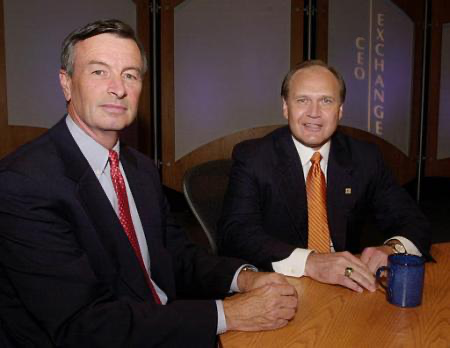Face: (69, 49, 147, 141), (287, 83, 343, 144)
